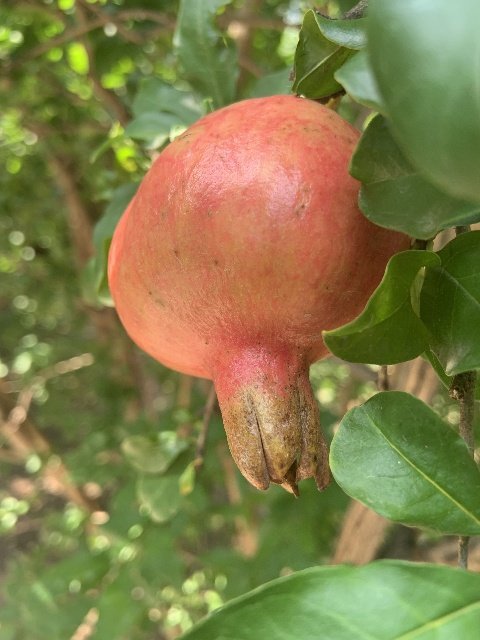ripe: (107, 95, 412, 500)
